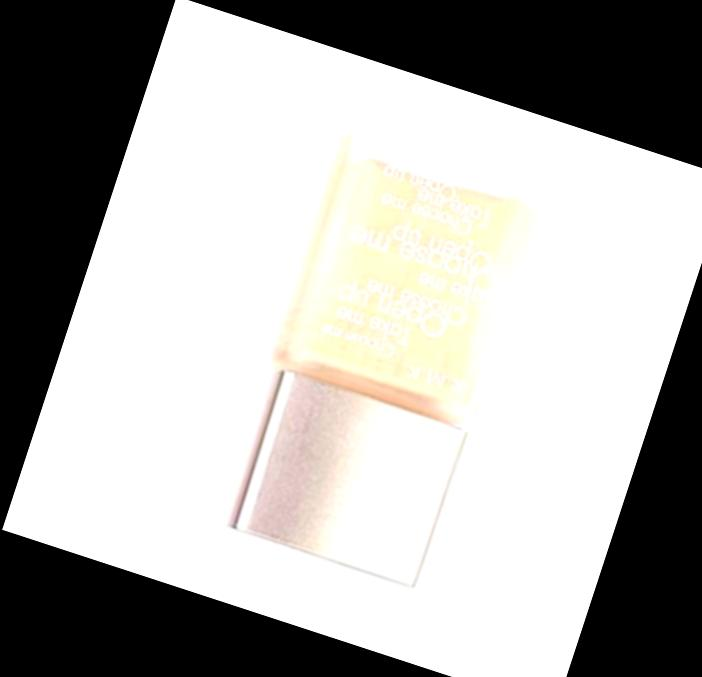cosmetic: (204, 114, 555, 593)
